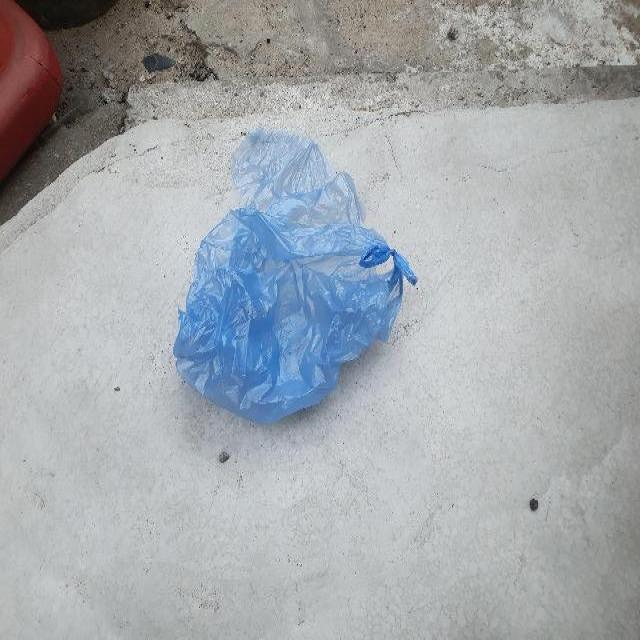plastic bag: (172, 124, 420, 424)
